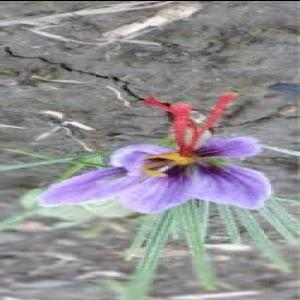Saffron: (37, 134, 272, 216)
